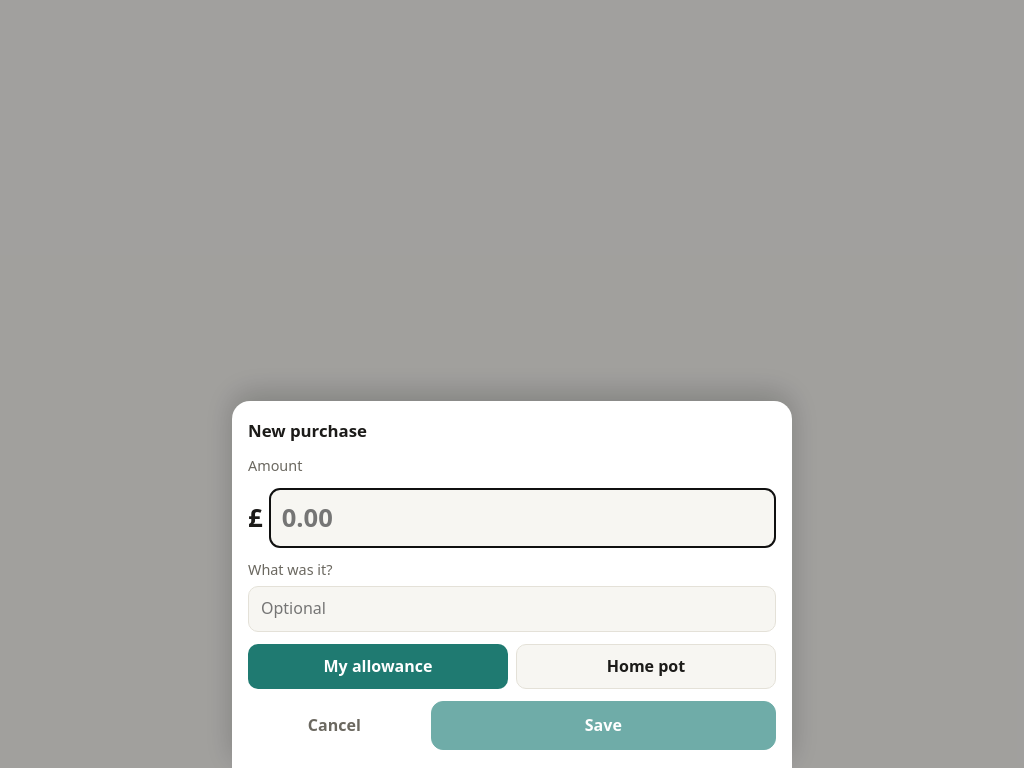
Test: invalid amounts cannot be saved
This screenshot has width=1024, height=768.
Expected: the button "Save" is disabled, top-left (431, 701), bottom-right (776, 750)
Type "1.234" into the field labelled "Amount" at (522,518), box top-left (269, 488), bottom-right (776, 548)
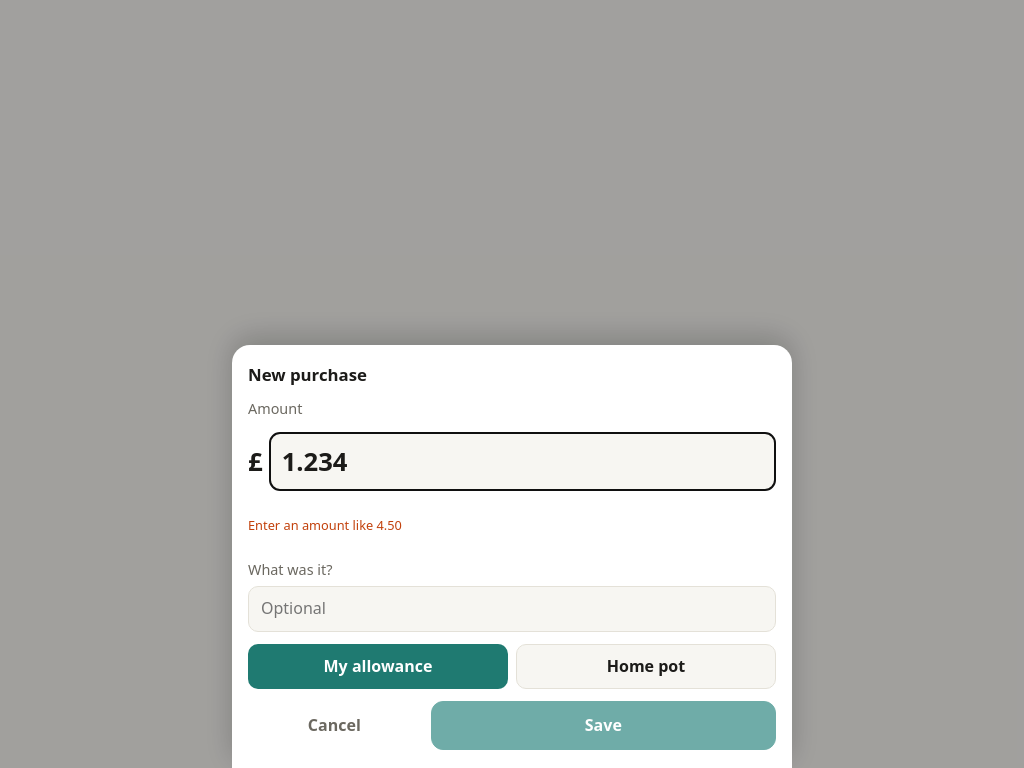
Expected: the button "Save" is disabled, top-left (431, 701), bottom-right (776, 750)
Expected: the text "Enter an amount like 4.50" is shown, top-left (248, 516), bottom-right (402, 534)
